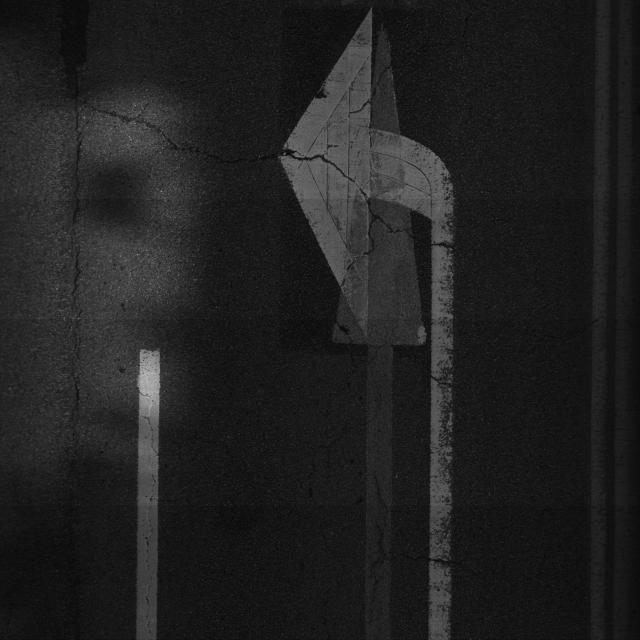left: (114, 8, 530, 640)
